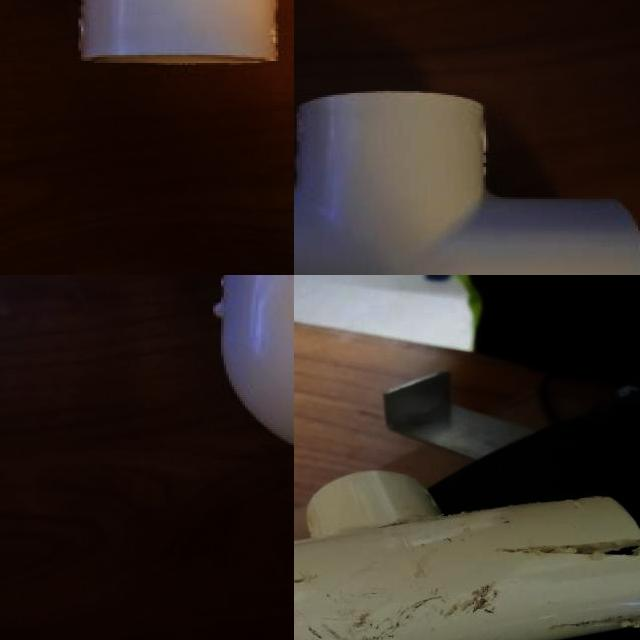Defective: (492, 539, 640, 583), (412, 548, 529, 599), (549, 603, 640, 640), (408, 522, 437, 526)
T Joint: (294, 92, 640, 275), (294, 473, 640, 640)
